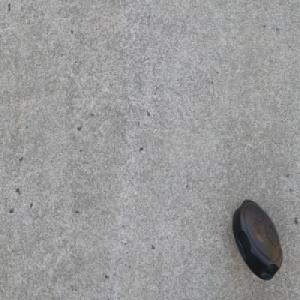FuelCap: (231, 198, 282, 282)
